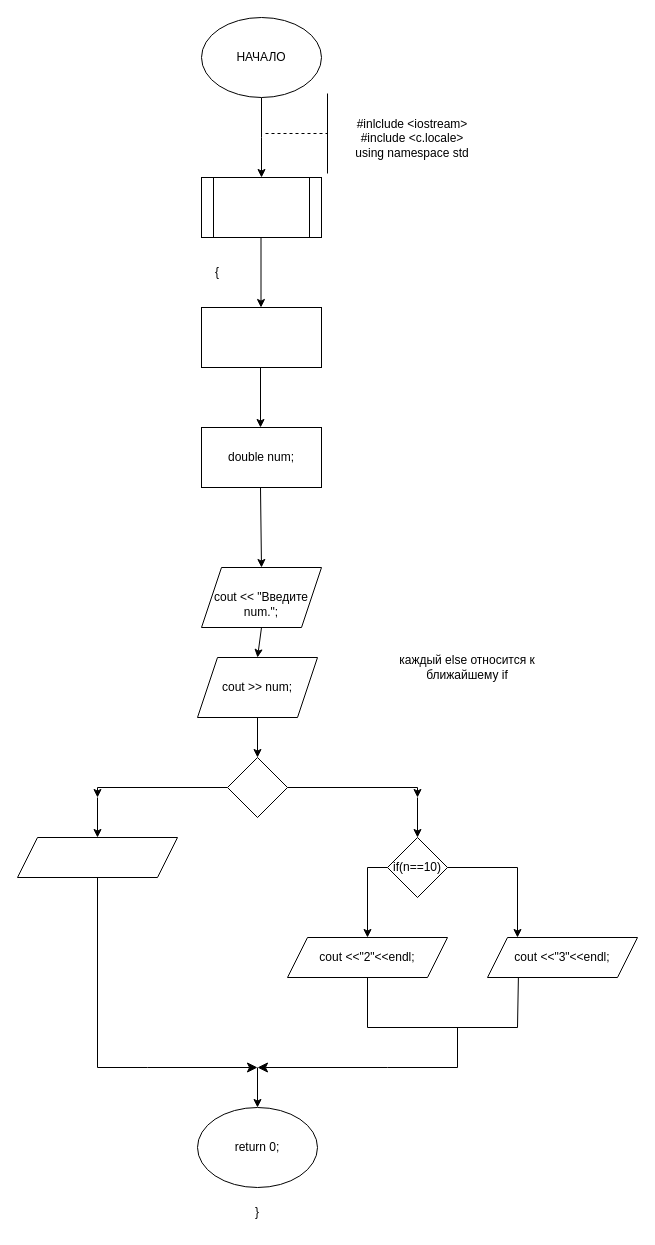
The diagram is 655 pixels wide and 1245 high, and some of its shapes have lost their labels. The shapes that lost their labels are listed below. From the top down, each one's box as (x1, y1, x2, y2) in pixels, then its label:
(200, 176, 322, 238): main()
(200, 306, 322, 368): setlocate (LC_ALL,".65001")
(226, 756, 288, 818): if (n<10);
(16, 836, 178, 878): cout <<"1"<<endl;
